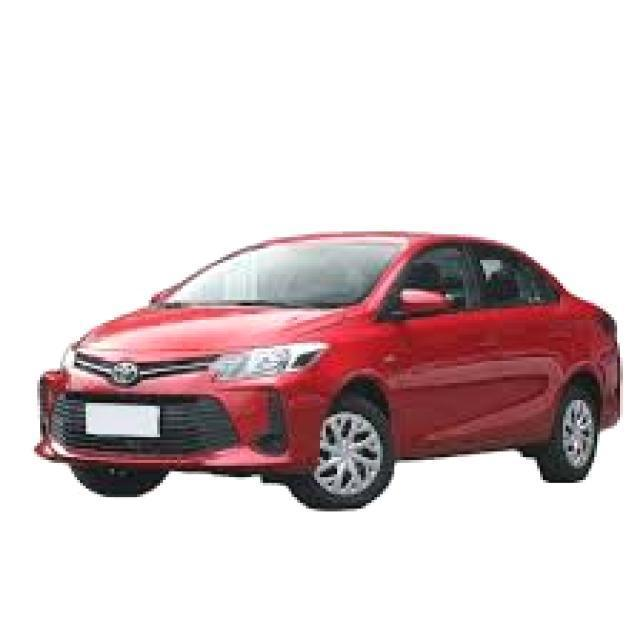ToyotaVios: (34, 228, 622, 511)
